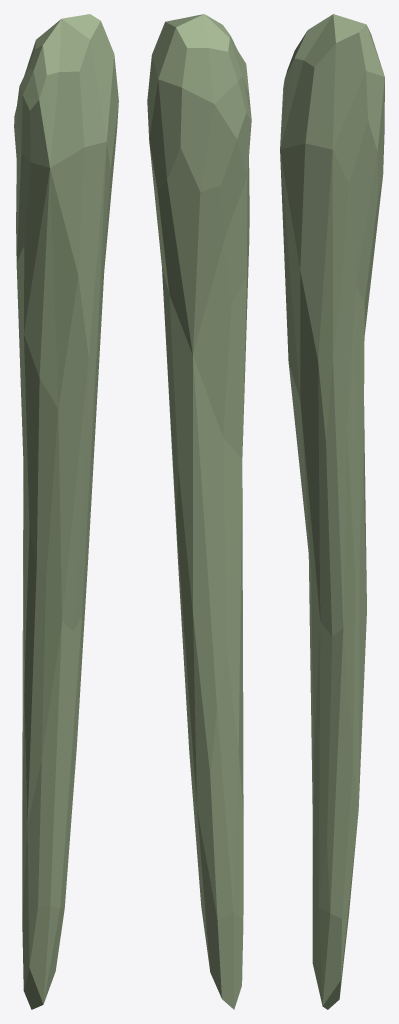
File: EA_Swamp_Liana_05b.glb
The picture shows the model from 3 angles, left to right: view 1: azimuth 30°, elevation 25°; view 2: azimuth 210°, elevation 25°; view 3: azimuth 330°, elevation 25°; orthographic projection.
Parts seen in each view (by area): view 1: EA_Swamp_Liana_05b; view 2: EA_Swamp_Liana_05b; view 3: EA_Swamp_Liana_05b.
Boxes of the visible parts, x1=… form: EA_Swamp_Liana_05b: x1=14, y1=14, x2=118, y2=1009; EA_Swamp_Liana_05b: x1=147, y1=14, x2=251, y2=1009; EA_Swamp_Liana_05b: x1=280, y1=14, x2=384, y2=1009.
Bounding box in the file's own units: 0.2861 × 2.97 × 0.2599.
1 material, 1 textured.
